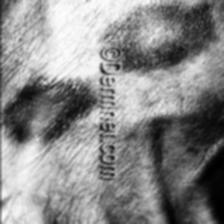Unclassified: (122, 0, 214, 73), (4, 76, 92, 142)
